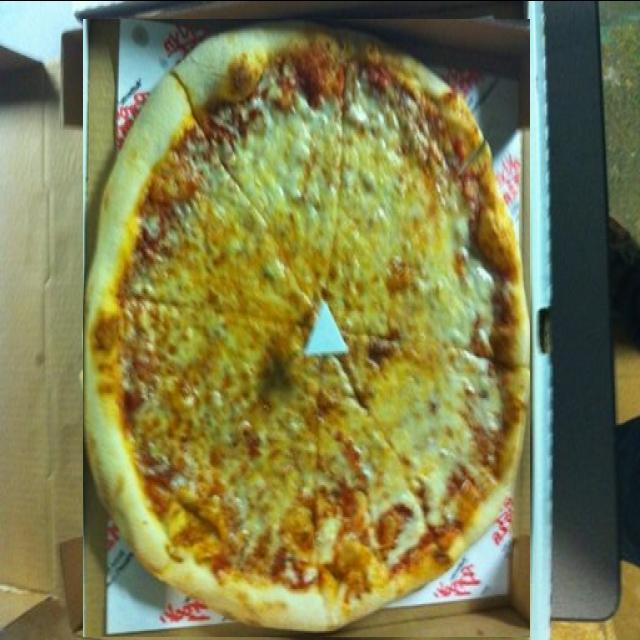pizza: (84, 18, 532, 636)
